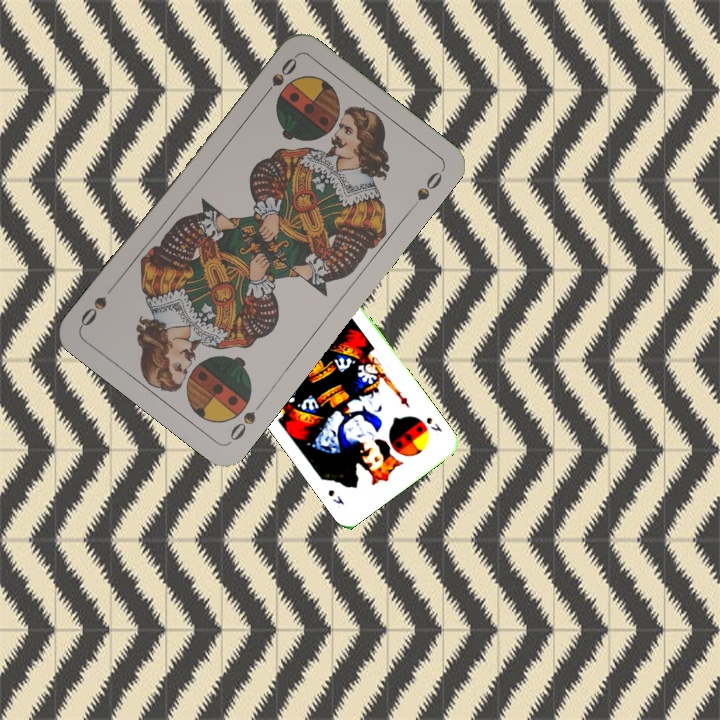SK: (422, 413, 445, 435)
SO: (257, 53, 300, 103), (225, 395, 267, 446)
